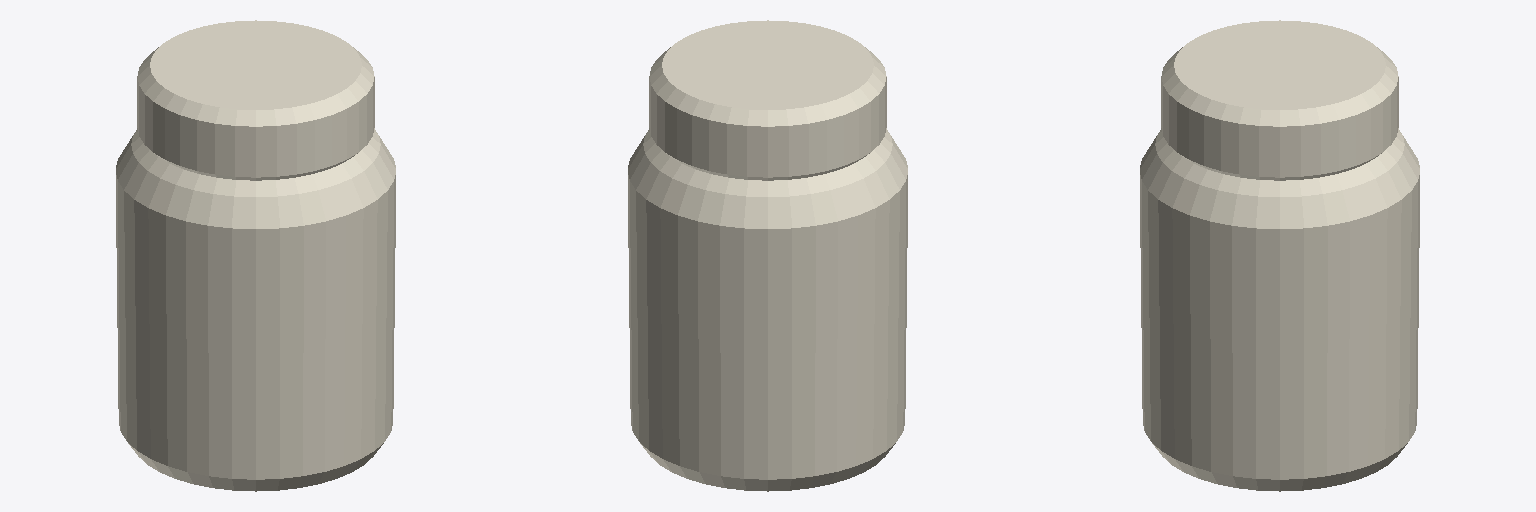
The robot description file, URDF, robot "nova_environment_object_0309":
<?xml version="1.0" encoding="utf-8"?>
<!-- Nova movable environment body for the bundled PyBullet launcher. SI metres/kg/radians. Loaded at its body origin; hinge/slider bodies use a fixed world_anchor base with one passive joint. Inertia is about COM. -->
<robot name="nova_environment_object_0309">
  <link name="body">
    <inertial>
      <origin xyz="0 0 0.06" rpy="0 0 0" />
      <mass value="0.3" />
      <inertia ixx="0.000587475" iyy="0.000587475" izz="0.00030375" ixy="0" ixz="0" iyz="0" />
    </inertial>
    <visual>
      <origin xyz="0 0 0" rpy="0 0 0" />
      <geometry>
        <mesh filename="object_0309.obj" />
      </geometry>
      <material name="surface">
        <color rgba="0.9 0.88 0.82 1" />
      </material>
    </visual>
    <collision>
      <origin xyz="0 0 0" rpy="0 0 0" />
      <geometry>
        <mesh filename="object_0309_collision_00.obj" />
      </geometry>
    </collision>
  </link>
</robot>

--- What the picture shows (computed from the rendered views, not written in the file) ---
Views: 3 orthographic renders of the robot side by side, from view 1: azimuth 30°, elevation 25°; view 2: azimuth 150°, elevation 25°; view 3: azimuth 270°, elevation 25°.
Robot: nova_environment_object_0309 — 1 links, 0 joints (none); root link body; default pose: all joints at 0.
Links seen in each view (by area): view 1: body; view 2: body; view 3: body.
Link boxes in pixels (<box>): body: <box>116,20,395,491</box>; body: <box>628,20,907,491</box>; body: <box>1140,20,1419,491</box>.
Bounding box of the posed robot: 0.09 × 0.09 × 0.132 m (x, y, z).
Meshes: 1 distinct files referenced, 1 mesh visuals loaded (1 OBJ).
